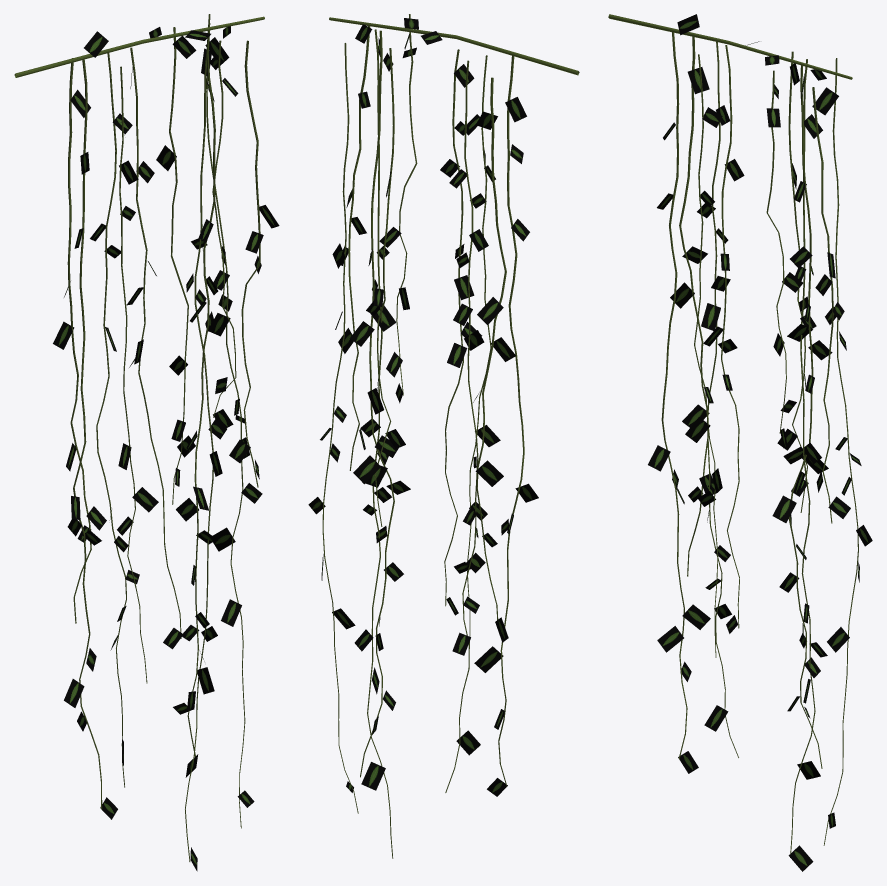
The model's file is liana_hang_curtain_05_lod1.gltf.
3 renders of one model, left to right at view 1: azimuth 30°, elevation 25°; view 2: azimuth 150°, elevation 25°; view 3: azimuth 330°, elevation 25°, orthographic. The views are drawn at different scales.
Parts seen in each view (by area): view 1: liana_hang_curtain_05; view 2: liana_hang_curtain_05; view 3: liana_hang_curtain_05.
Boxes of the visible parts, left/top/right/bottom form: liana_hang_curtain_05: left=14, top=14, right=279, bottom=871; liana_hang_curtain_05: left=308, top=14, right=579, bottom=858; liana_hang_curtain_05: left=608, top=14, right=872, bottom=871.
Bounding box in the file's own units: 1.75 × 5.58 × 0.7013.
Materials: 2 (2 with a texture image).
